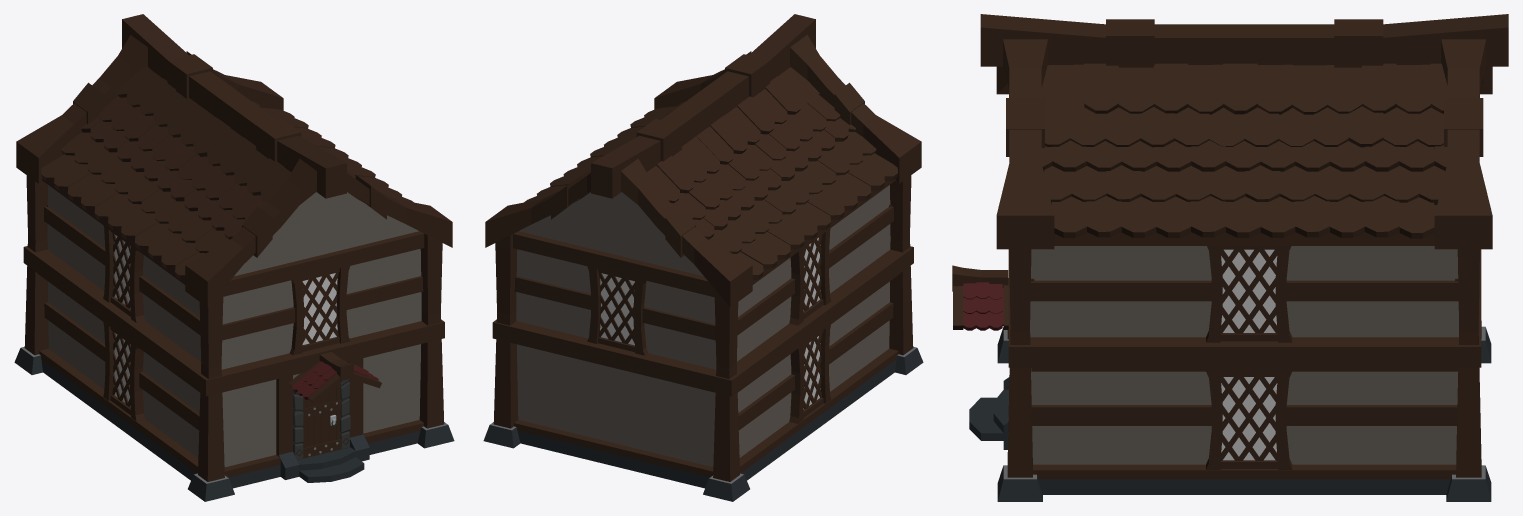
File: SM_hous_01_B.gltf
3 views of the same model, side by side, from view 1: azimuth 30°, elevation 25°; view 2: azimuth 150°, elevation 25°; view 3: azimuth 270°, elevation 25° (orthographic). The views are drawn at different scales.
Visible parts, largest first — view 1: SM_hous_01_B; view 2: SM_hous_01_B; view 3: SM_hous_01_B.
Boxes of the visible parts, bbox=[...] form: SM_hous_01_B: bbox=[14, 14, 454, 501]; SM_hous_01_B: bbox=[483, 14, 923, 501]; SM_hous_01_B: bbox=[952, 14, 1508, 501].
Size of the model in its own units: 6.02 by 7.14 by 8.94.
